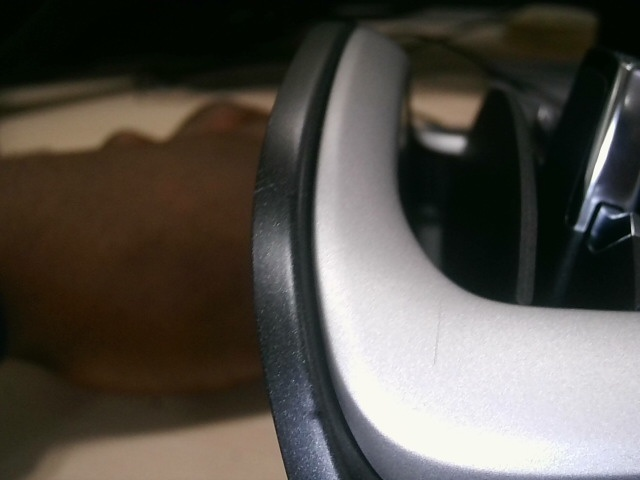NG: (425, 301, 449, 375), (254, 172, 281, 213)
